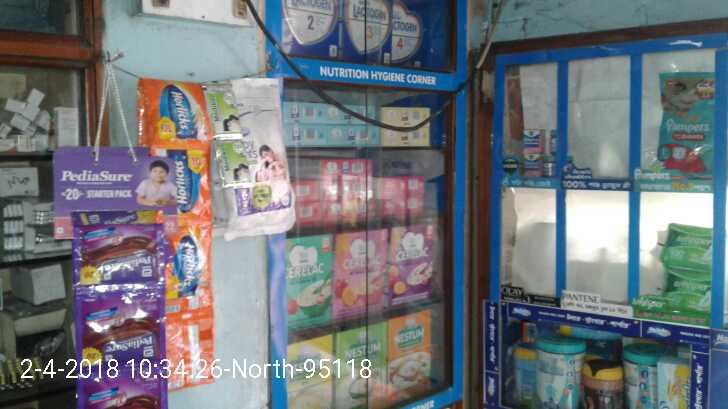vicks: (524, 129, 560, 176)
